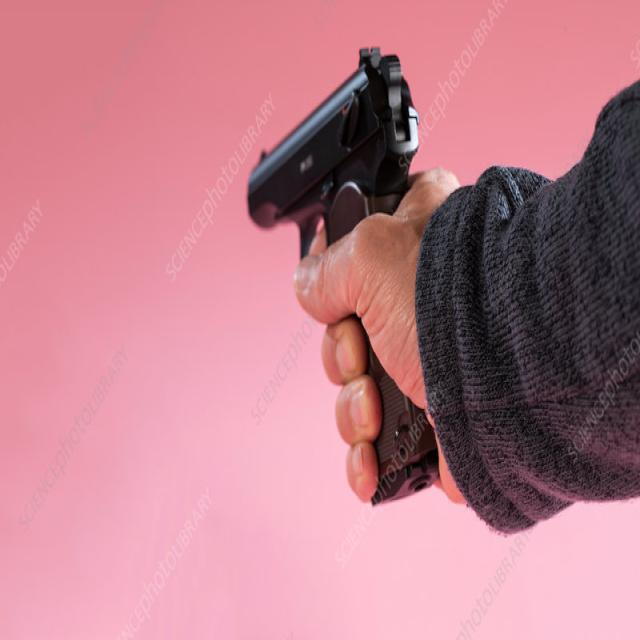HandGun: (247, 48, 419, 264)
